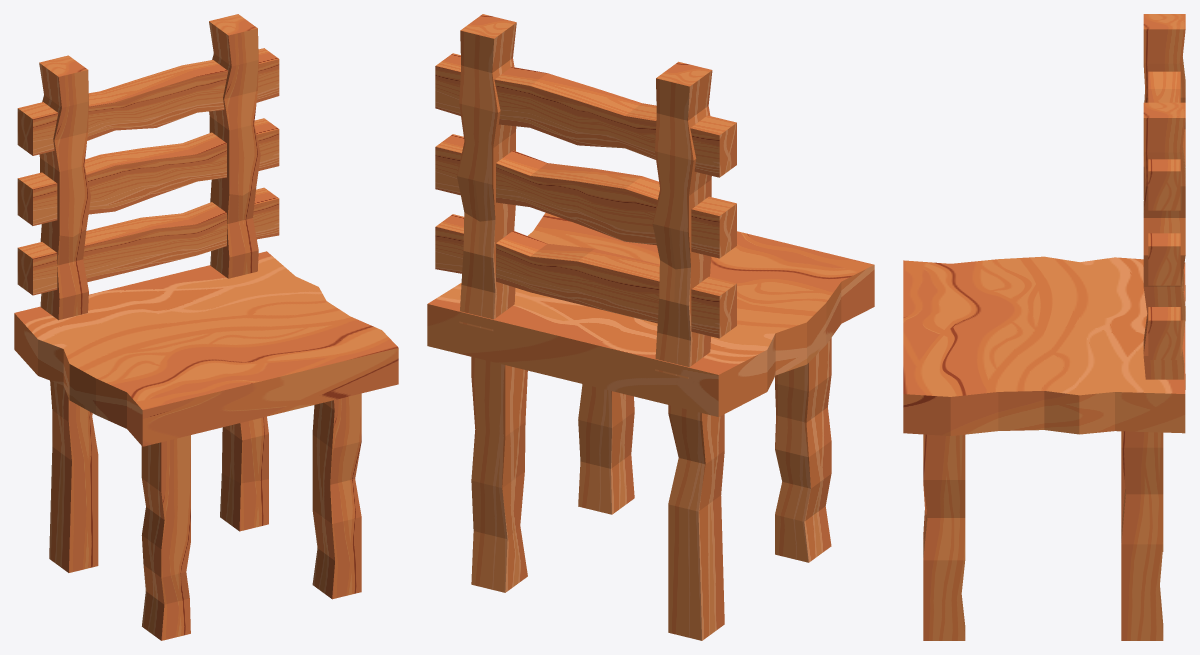
File: ParçalıSandalye.fbx
The picture shows the model from 3 angles, left to right: view 1: azimuth 30°, elevation 25°; view 2: azimuth 150°, elevation 25°; view 3: azimuth 270°, elevation 25°; orthographic projection. The views are drawn at different scales.
Visible parts, largest first — view 1: Ahşap Sandalye Parçası 1, Ahşap Sandalye Parçası 2, Ahşap Sandalye Parçası 6, Ahşap Sandalye Parçası 5, Ahşap Sandalye Parçası 10, Ahşap Sandalye Parçası 3, Ahşap Sandalye Parçası 7, Ahşap Sandalye Parçası 8, Ahşap Sandalye Parçası 9, Ahşap Sandalye Parçası 4; view 2: Ahşap Sandalye Parçası 1, Ahşap Sandalye Parçası 6, Ahşap Sandalye Parçası 5, Ahşap Sandalye Parçası 2, Ahşap Sandalye Parçası 3, Ahşap Sandalye Parçası 7, Ahşap Sandalye Parçası 10, Ahşap Sandalye Parçası 8, Ahşap Sandalye Parçası 9, Ahşap Sandalye Parçası 4; view 3: Ahşap Sandalye Parçası 2, Ahşap Sandalye Parçası 1, Ahşap Sandalye Parçası 10, Ahşap Sandalye Parçası 3, Ahşap Sandalye Parçası 5, Ahşap Sandalye Parçası 4, Ahşap Sandalye Parçası 6, Ahşap Sandalye Parçası 9, Ahşap Sandalye Parçası 8, Ahşap Sandalye Parçası 7.
Boxes of the visible parts, x1,y1,x2,y2 form: Ahşap Sandalye Parçası 1: (14,217,271,640); Ahşap Sandalye Parçası 2: (140,251,398,415); Ahşap Sandalye Parçası 6: (17,118,279,225); Ahşap Sandalye Parçası 5: (39,55,90,320); Ahşap Sandalye Parçası 10: (312,393,361,599); Ahşap Sandalye Parçası 3: (209,14,260,195); Ahşap Sandalye Parçası 7: (17,78,156,155); Ahşap Sandalye Parçası 8: (141,48,279,127); Ahşap Sandalye Parçası 9: (141,187,279,265); Ahşap Sandalye Parçası 4: (210,181,258,278); Ahşap Sandalye Parçası 1: (471,231,874,640); Ahşap Sandalye Parçası 6: (435,134,736,258); Ahşap Sandalye Parçası 5: (652,61,712,378); Ahşap Sandalye Parçası 2: (427,212,659,381); Ahşap Sandalye Parçası 3: (457,14,516,221); Ahşap Sandalye Parçası 7: (577,88,736,177); Ahşap Sandalye Parçası 10: (578,384,634,514); Ahşap Sandalye Parçası 8: (435,53,594,145); Ahşap Sandalye Parçası 9: (435,214,594,303); Ahşap Sandalye Parçası 4: (459,205,515,330); Ahşap Sandalye Parçası 2: (903,318,1185,435); Ahşap Sandalye Parçası 1: (903,256,1185,640); Ahşap Sandalye Parçası 10: (923,434,965,640); Ahşap Sandalye Parçası 3: (1143,102,1185,286); Ahşap Sandalye Parçası 5: (1143,14,1185,300); Ahşap Sandalye Parçası 4: (1143,281,1185,389); Ahşap Sandalye Parçası 6: (1148,233,1180,285); Ahşap Sandalye Parçası 9: (1148,307,1180,359); Ahşap Sandalye Parçası 8: (1148,159,1180,210); Ahşap Sandalye Parçası 7: (1148,71,1180,102).
Size of the model in its own units: 1266 by 2198 by 1076.
1 material, 1 textured.
